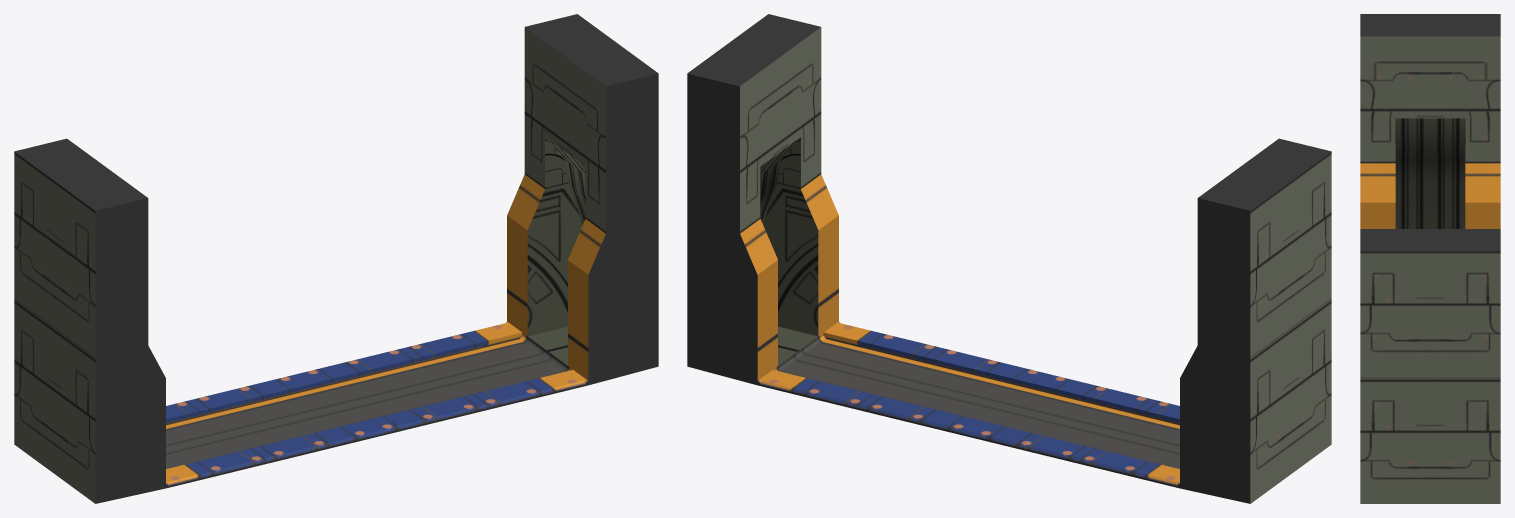
The model's file is Door_FRAME.fbx.
3 renders of one model, left to right at view 1: azimuth 30°, elevation 25°; view 2: azimuth 150°, elevation 25°; view 3: azimuth 270°, elevation 25°, orthographic. The views are drawn at different scales.
Parts seen in each view (by area): view 1: Doorframe_Bottom, Doorframe_Top; view 2: Doorframe_Bottom, Doorframe_Top; view 3: Doorframe_Top, Doorframe_Bottom.
Part boxes in pixels (<box>): Doorframe_Bottom: <box>14,174,658,503</box>; Doorframe_Top: <box>14,14,658,358</box>; Doorframe_Bottom: <box>687,174,1331,503</box>; Doorframe_Top: <box>687,14,1331,358</box>; Doorframe_Top: <box>1360,14,1500,378</box>; Doorframe_Bottom: <box>1360,153,1500,503</box>.
Bounding box in the file's own units: 400 × 201 × 100.
